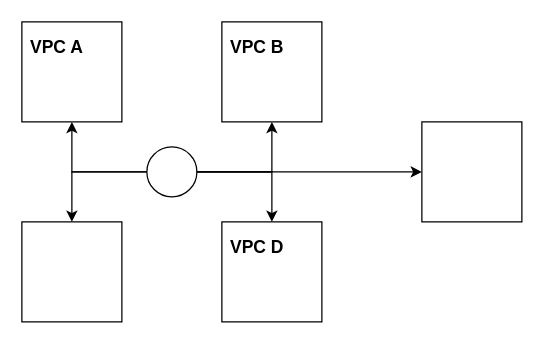
This 544x344 diagram has some shape labels left out. The shapes that lost their labels are listed below. From the top down, each one's centre as x and y in pixels, then its label:
At pixel 471 171: "Corporate Gateway".
At pixel 71 271: "VPC C".
